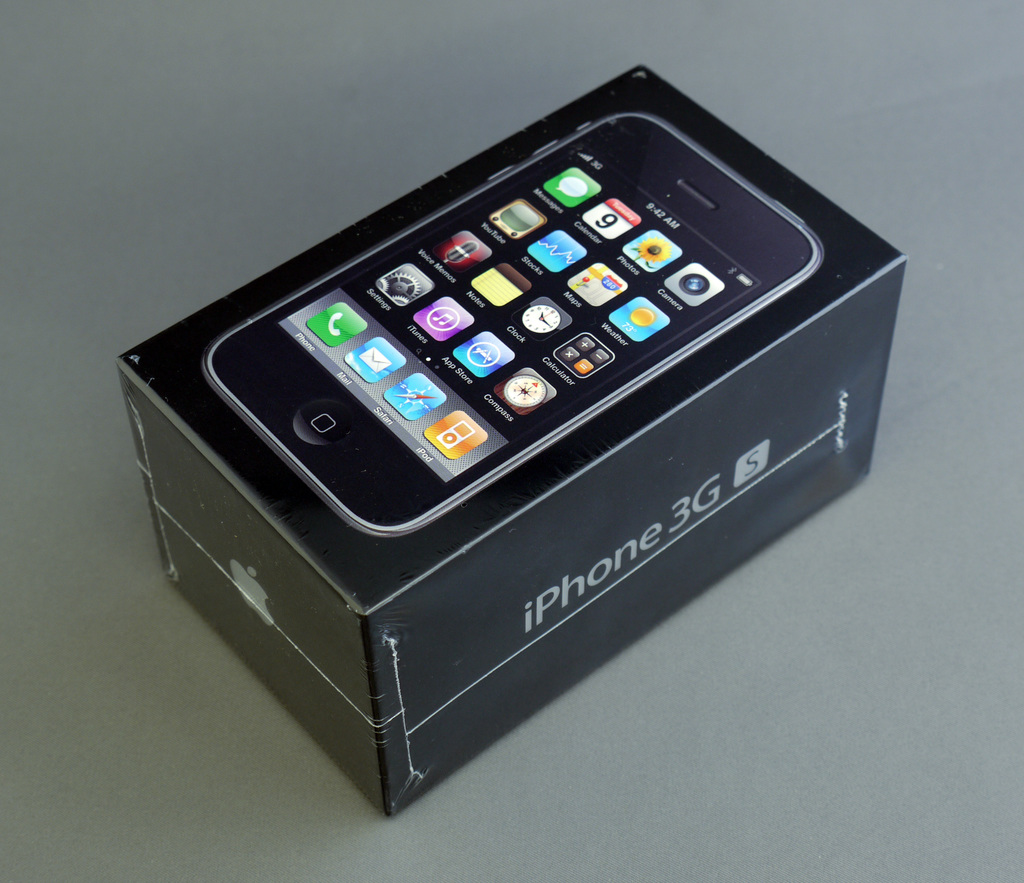Mobile-phone: (207, 104, 824, 535)
